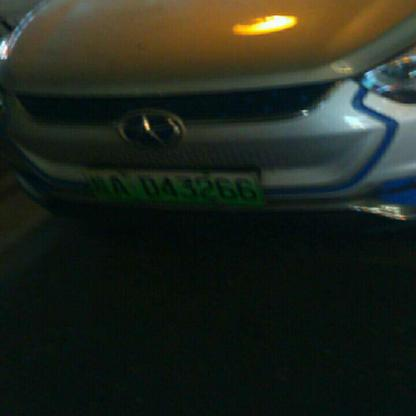lp: (80, 170, 263, 204)
